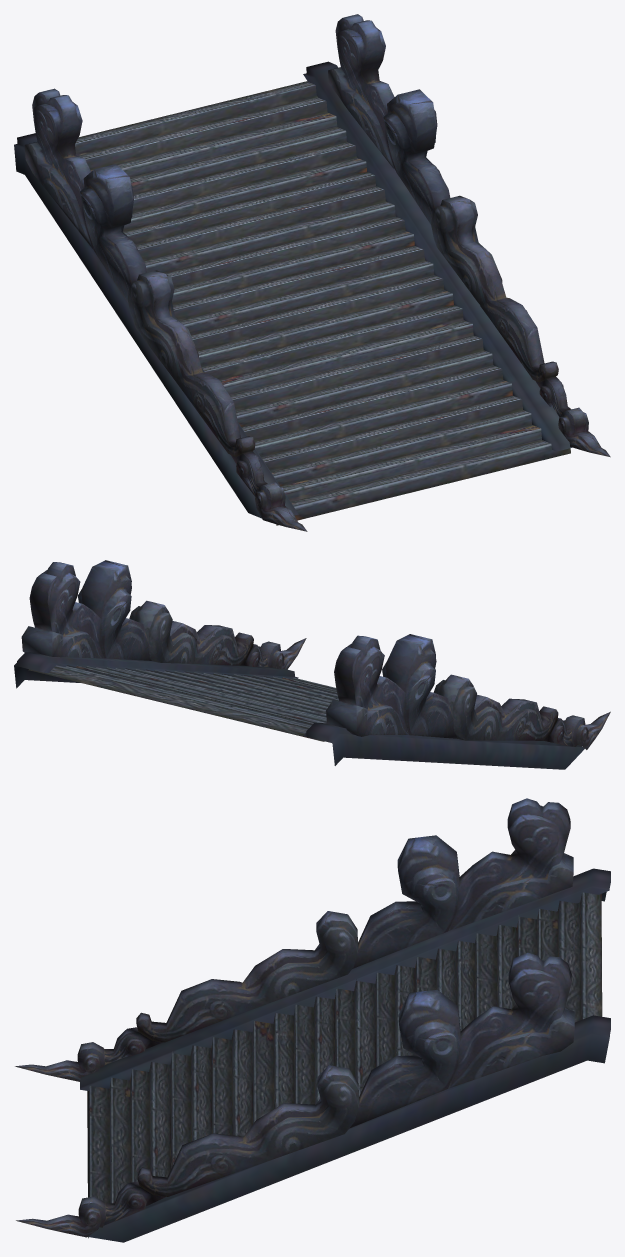
File: Map01_Bridge_01.FBX
The picture shows the model from 3 angles, top to bottom: view 1: azimuth 30°, elevation 25°; view 2: azimuth 150°, elevation 25°; view 3: azimuth 270°, elevation 25°; orthographic projection. The views are drawn at different scales.
Parts seen in each view (by area): view 1: zzzzz239, Map01_Bridge_01; view 2: zzzzz239, Map01_Bridge_01; view 3: zzzzz239, Map01_Bridge_01.
Part boxes in pixels (<box>): zzzzz239: <box>24,14,610,531</box>; Map01_Bridge_01: <box>14,61,572,518</box>; zzzzz239: <box>21,560,610,749</box>; Map01_Bridge_01: <box>14,652,584,769</box>; zzzzz239: <box>15,798,602,1238</box>; Map01_Bridge_01: <box>80,868,610,1242</box>.
Bounding box in the file's own units: 319 × 243 × 459.
